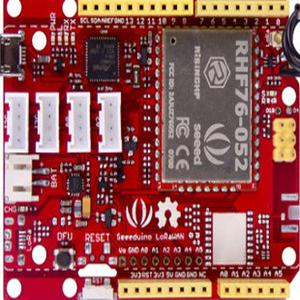duino: (1, 0, 298, 300)
